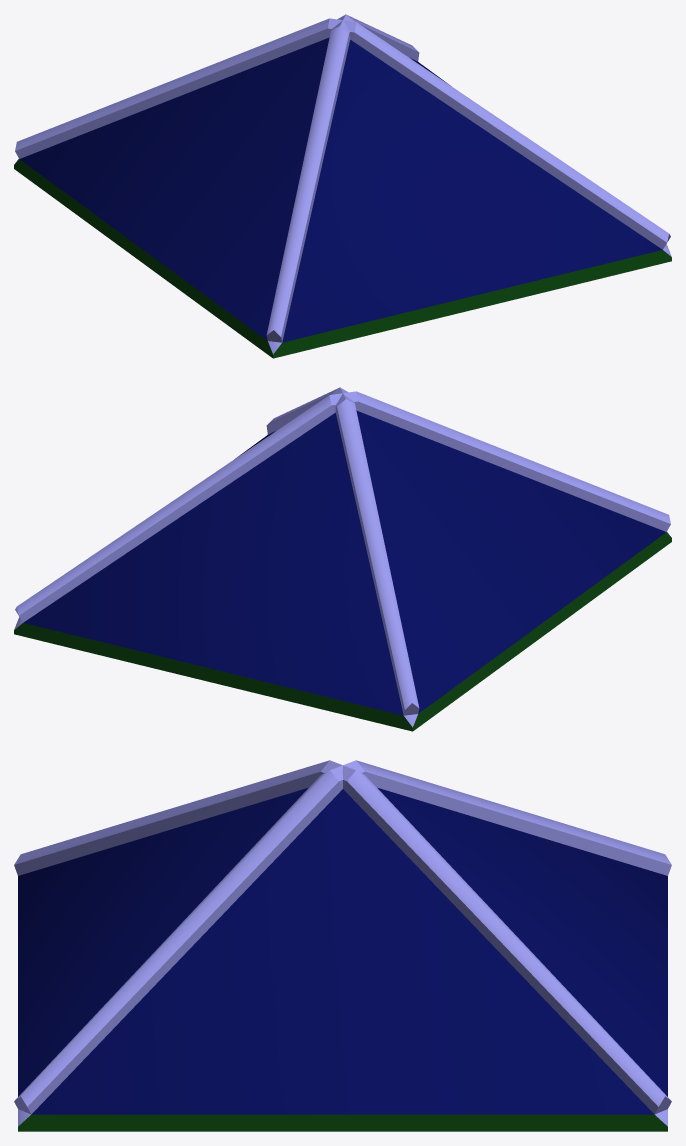
File: basic roof.FBX
3 views of the same model, one above another, from view 1: azimuth 30°, elevation 25°; view 2: azimuth 150°, elevation 25°; view 3: azimuth 270°, elevation 25° (orthographic). The views are drawn at different scales.
Parts seen in each view (by area): view 1: basicroof; view 2: basicroof; view 3: basicroof.
Part boxes in pixels (x1,y1,x2,y2): basicroof: (14, 14, 671, 358); basicroof: (14, 387, 671, 731); basicroof: (14, 760, 671, 1131).
Bounding box in the file's own units: 15.21 × 7 × 17.08.
